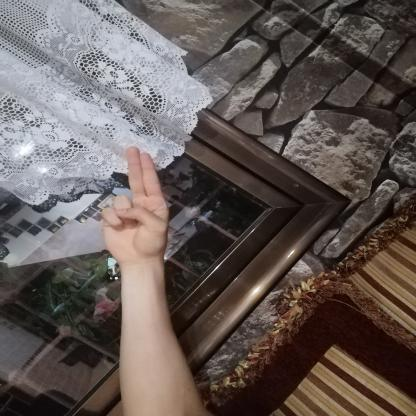TA: (92, 139, 182, 269)
